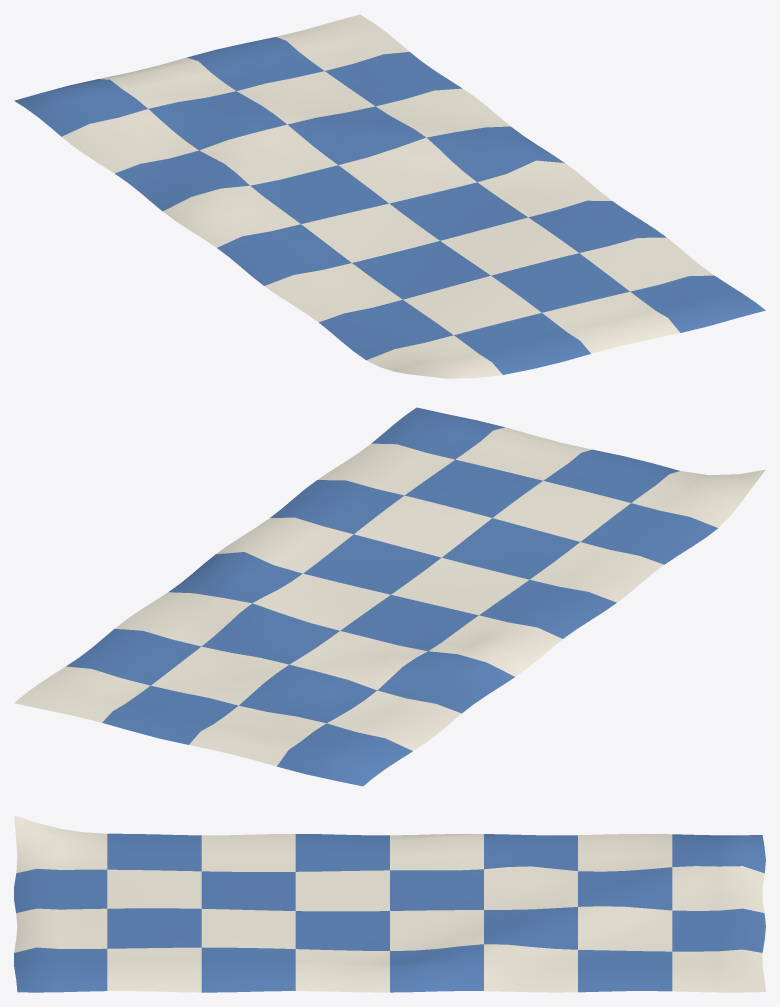
The model's file is towel_d.glb.
3 views of the same model, one above another, from view 1: azimuth 30°, elevation 25°; view 2: azimuth 150°, elevation 25°; view 3: azimuth 270°, elevation 25° (orthographic). The views are drawn at different scales.
Visible parts, largest first — view 1: towel_d; view 2: towel_d; view 3: towel_d.
Boxes of the visible parts, x1=… form: towel_d: x1=14, y1=14, x2=765, y2=378; towel_d: x1=14, y1=407, x2=765, y2=786; towel_d: x1=14, y1=815, x2=765, y2=992.
Size of the model in its own units: 0.798 by 0.0464 by 1.6.
